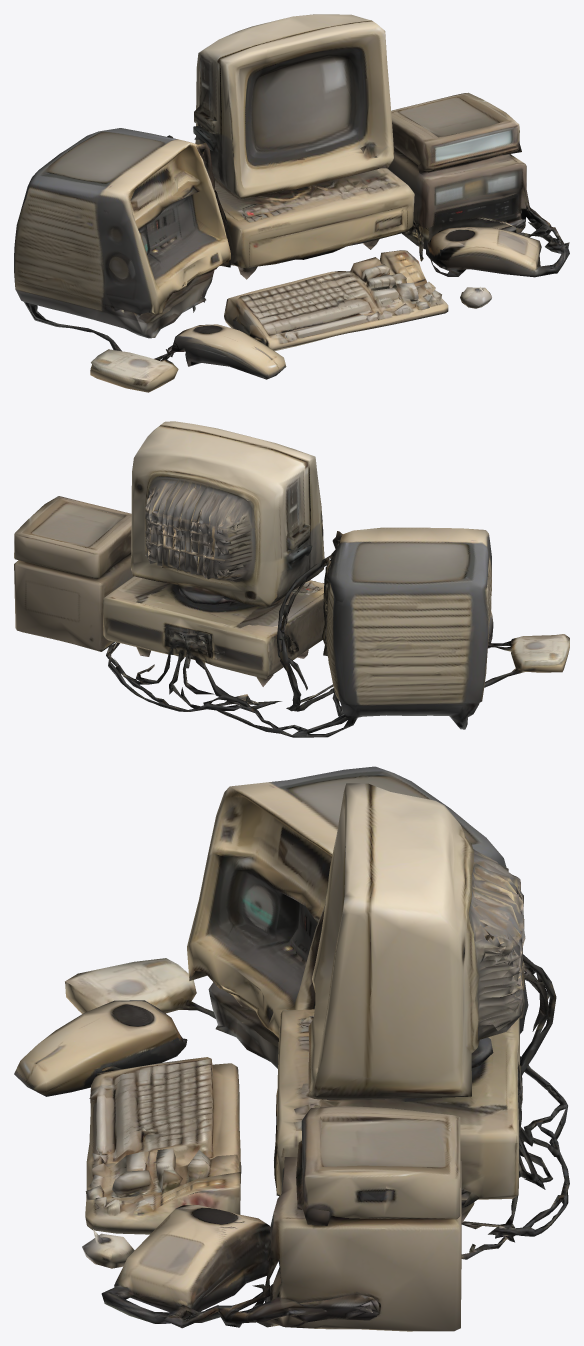
File: lumen3.glb
The picture shows the model from 3 angles, top to bottom: view 1: azimuth 30°, elevation 25°; view 2: azimuth 150°, elevation 25°; view 3: azimuth 270°, elevation 25°; orthographic projection. The views are drawn at different scales.
Size of the model in its own units: 2 by 0.9323 by 1.29.
1 material, 1 textured.
